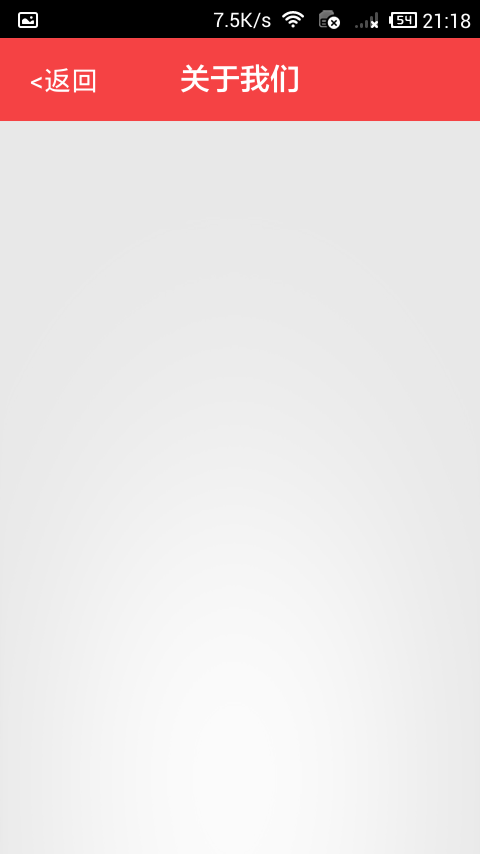button: (23, 57, 108, 107)
